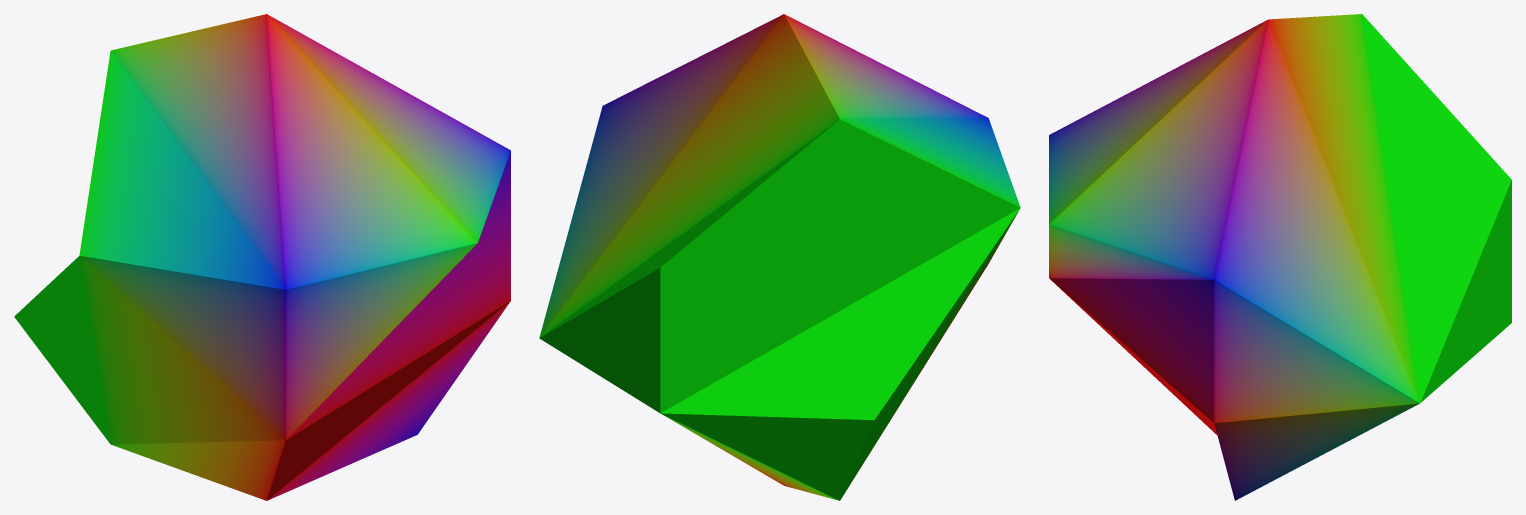
Rendered from all_5.obj.
The picture shows the model from 3 angles, left to right: view 1: azimuth 30°, elevation 25°; view 2: azimuth 150°, elevation 25°; view 3: azimuth 270°, elevation 25°; orthographic projection. The views are drawn at different scales.
Bounding box in the file's own units: 1.85 × 2 × 1.81.
